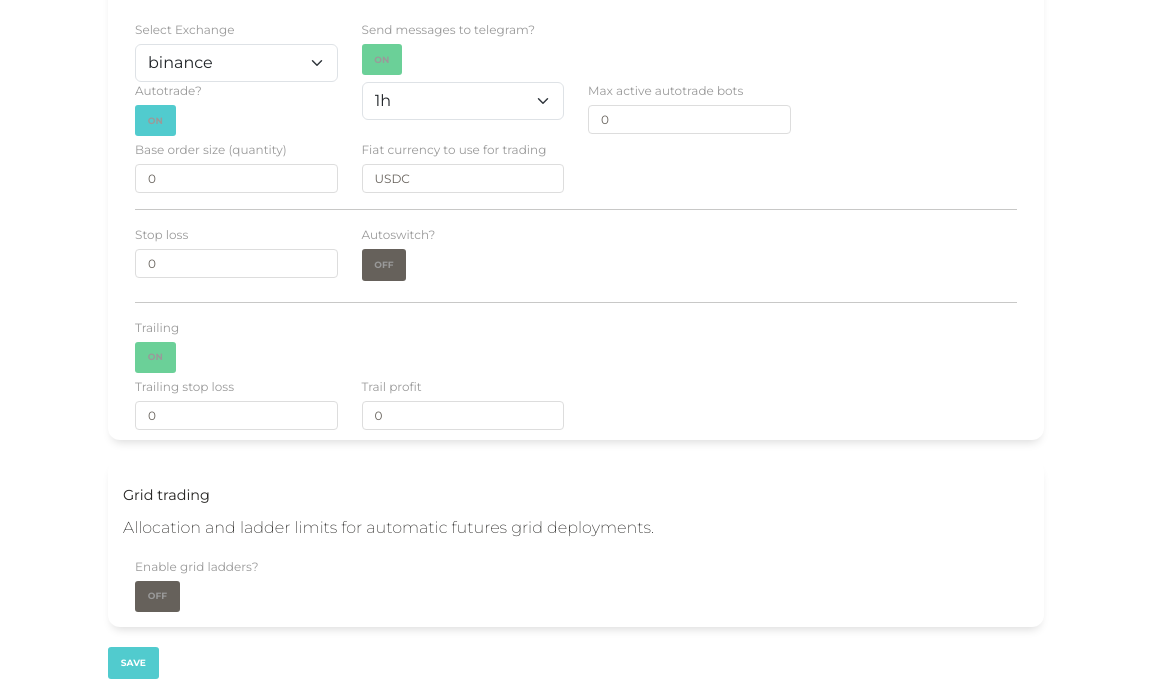
Autotrade page › reveals grid trading settings once enable_grid_ladders is on
This screenshot has width=1152, height=695.
(page scrolled)
Step 1. Click the label "Off" below "Enable grid ladders?" → (157, 597), box [135,581,180,612]
(page scrolled)
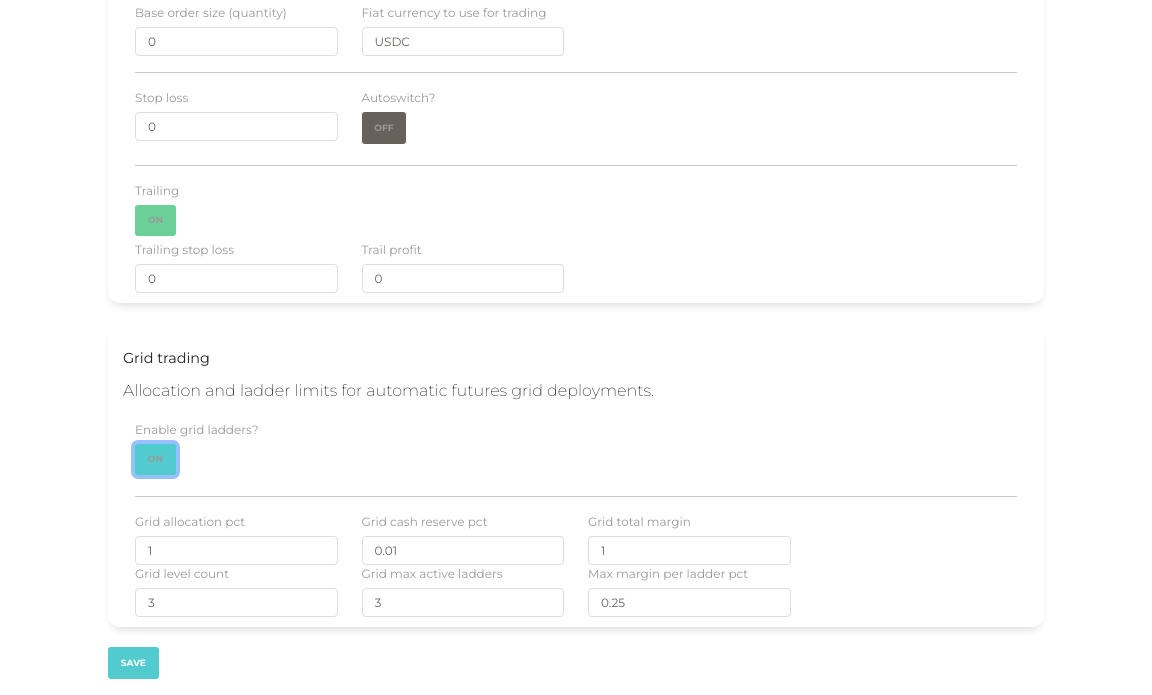
Now the number field labelled "Grid allocation pct" is shown, box [135,536,338,565]
Now the number field labelled "Grid cash reserve pct" is shown, box [362,536,564,565]
Now the number field labelled "Grid total margin" is shown, box [588,536,790,565]
